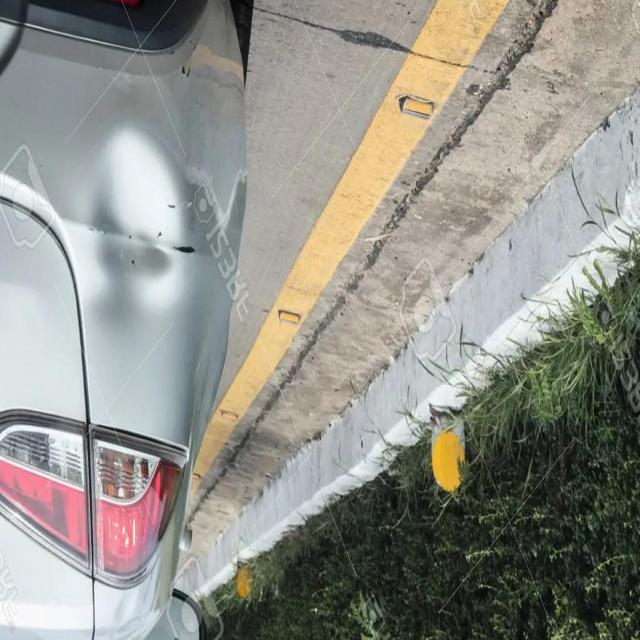dent: (88, 115, 204, 308)
